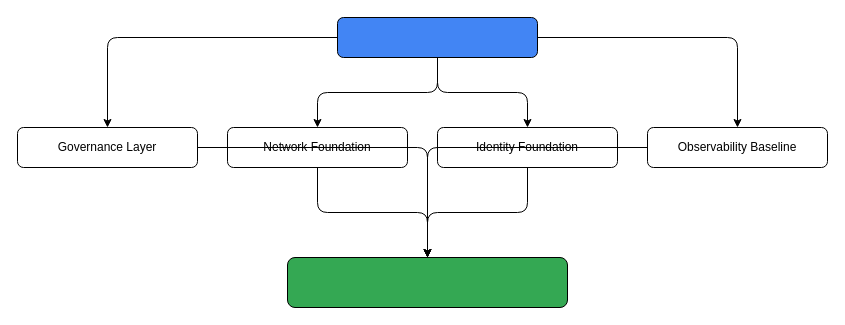
Image size: 845x325. Some labels were removed from this diagram. The shapes that lost their labels are listed below. From the top down, each one's centre as x and y in pixels, then its label:
At point 437,37: "Organization Root".
At point 427,282: "Workload Projects Land Here".
